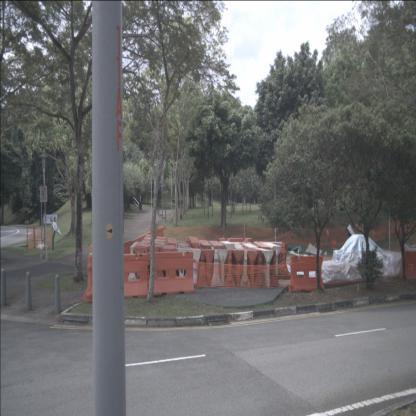movable_object-barrier: (101, 252, 150, 298), (149, 250, 196, 297), (289, 255, 324, 292), (82, 252, 106, 303), (265, 242, 290, 278), (262, 242, 282, 278), (256, 246, 273, 288), (263, 249, 279, 288), (126, 241, 140, 285), (245, 247, 258, 288), (188, 247, 202, 285), (400, 250, 416, 281), (116, 240, 133, 268), (239, 249, 251, 288), (232, 249, 244, 287), (254, 250, 266, 288), (224, 249, 236, 287), (210, 249, 222, 286), (197, 249, 208, 288), (217, 248, 228, 287), (204, 249, 214, 286)
vehicle-bicycle: (25, 218, 30, 226)
